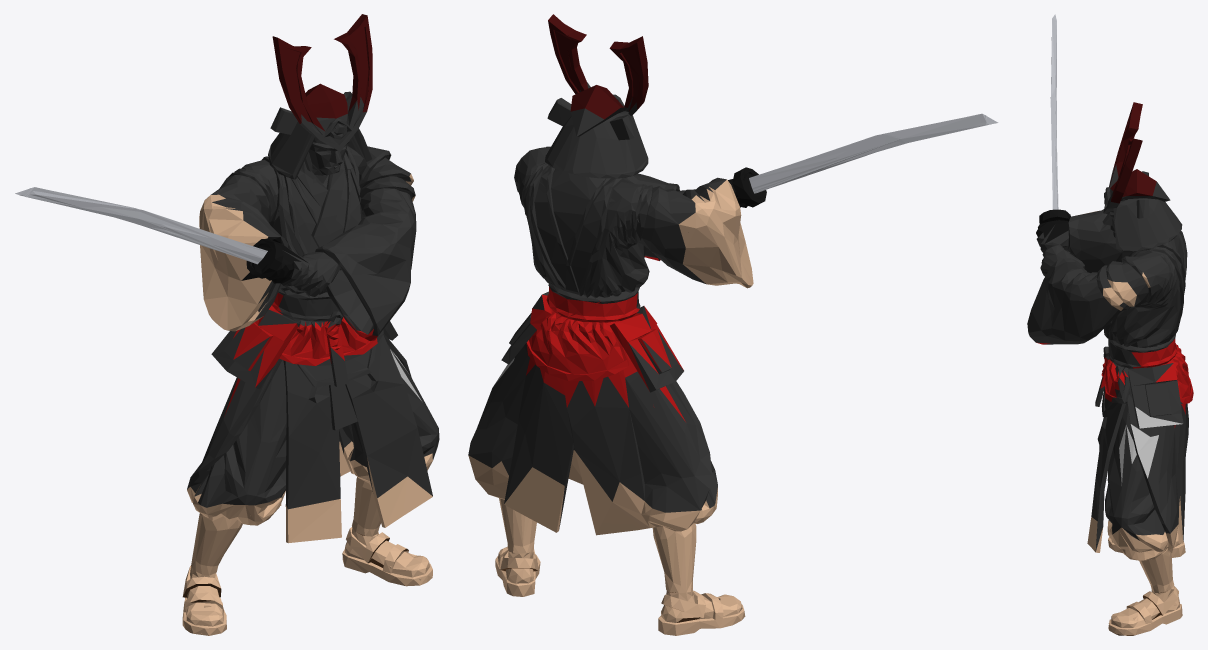
Rendered from samurai.obj.
3 views of the same model, side by side, from view 1: azimuth 30°, elevation 25°; view 2: azimuth 150°, elevation 25°; view 3: azimuth 270°, elevation 25° (orthographic). The views are drawn at different scales.
Visible parts, largest first — view 1: samurai; view 2: samurai; view 3: samurai.
Part boxes in pixels (x1=…): samurai: x1=15, y1=14, x2=439, y2=635; samurai: x1=468, y1=14, x2=998, y2=635; samurai: x1=1027, y1=14, x2=1193, y2=635.
Bounding box in the file's own units: 4.22 × 4.89 × 1.55.
